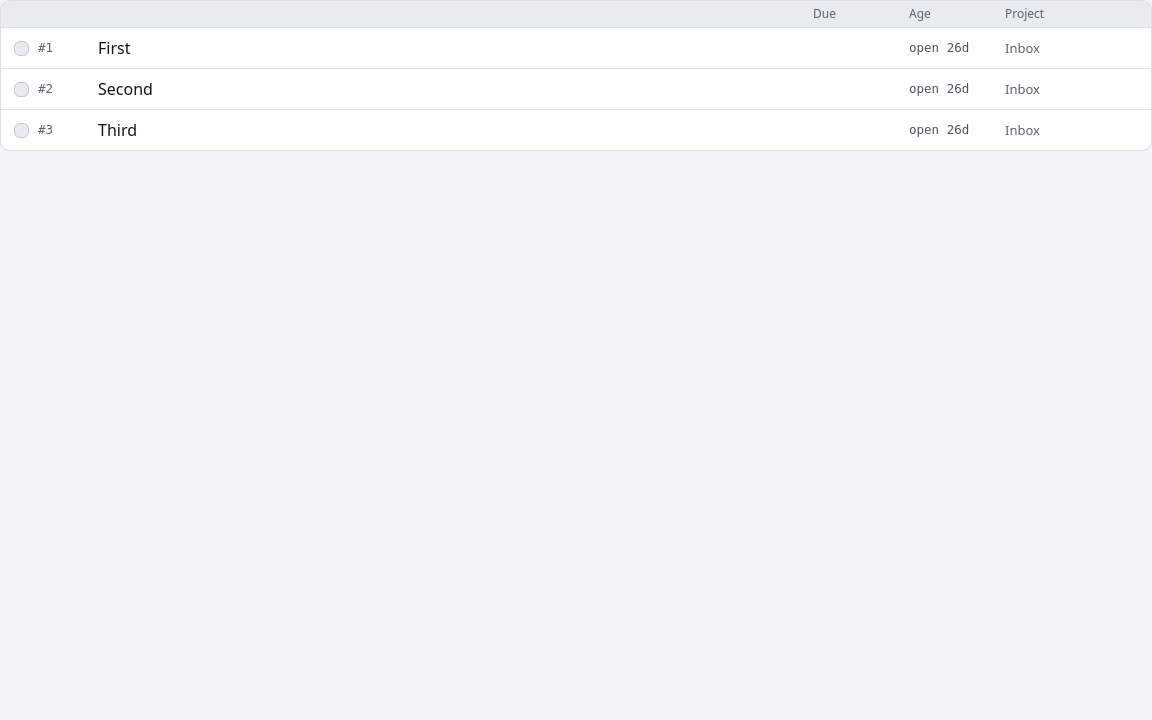
Scenario: StripList › shows what went wrong when marking done fails, and offers no undo
Click the checkbox named "Mark #1 done". click: [21, 48]
box: top-left (14, 40), bottom-right (28, 56)
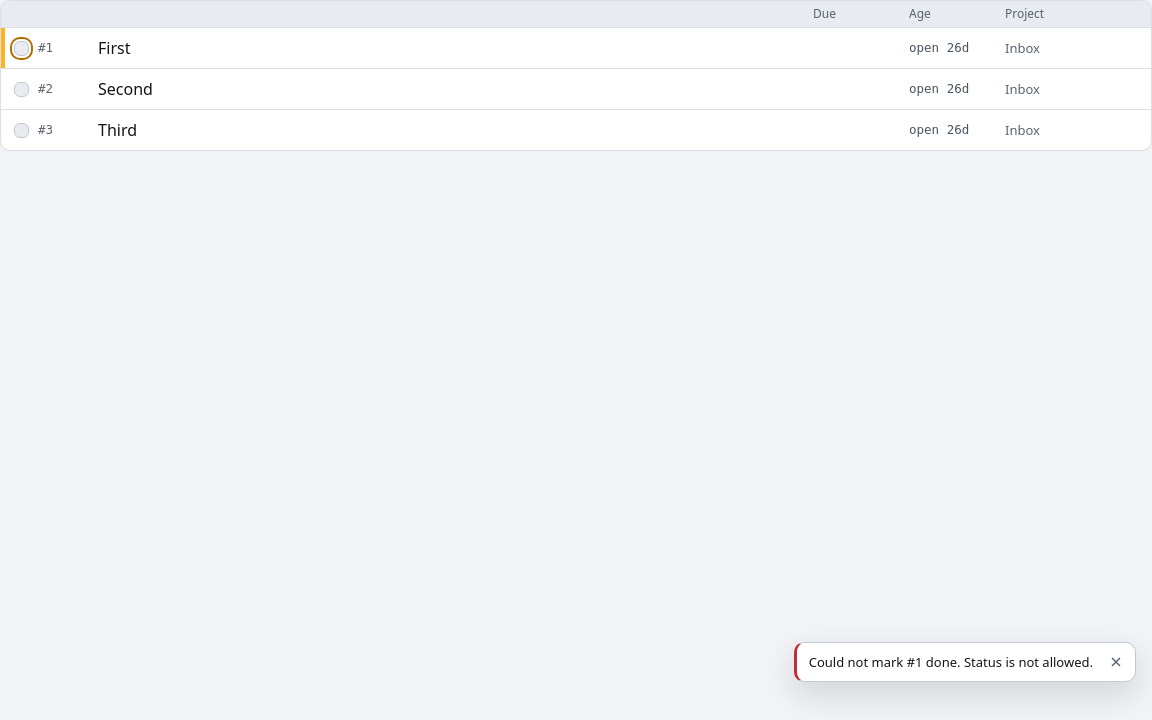
Check: the message reads "Could not mark #1 done. Status is not allowed.", box top-left (809, 653), bottom-right (1093, 671)
